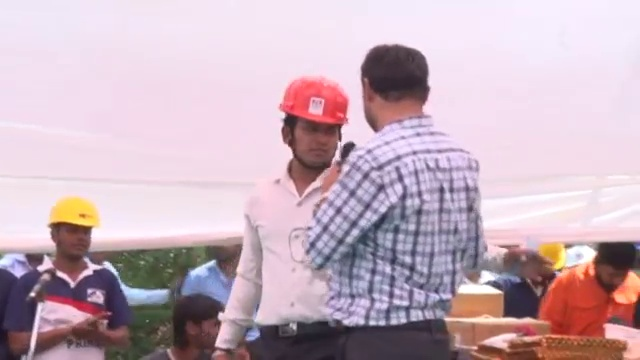helmet: (276, 76, 354, 128), (38, 198, 100, 234)
helmet_off: (351, 45, 438, 122), (166, 291, 227, 360), (588, 247, 640, 294), (208, 242, 246, 280), (17, 248, 46, 275)
helmet_on: (275, 76, 356, 183), (39, 200, 100, 271)
person: (301, 37, 490, 359), (211, 79, 359, 360), (4, 193, 134, 360), (177, 244, 262, 360), (545, 245, 640, 333), (502, 245, 566, 318), (2, 239, 50, 282)
